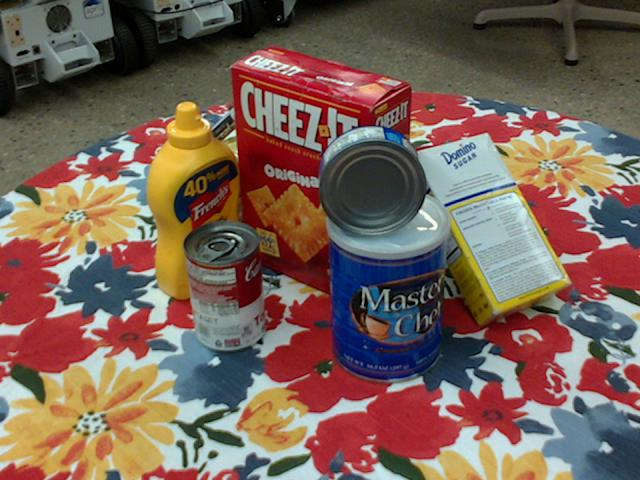cracker_box: (232, 47, 413, 307)
gelatin_box: (253, 135, 335, 206)
large_marker: (195, 92, 262, 153)
master_chef_can: (325, 189, 448, 386)
mug: (392, 145, 480, 248)
mustard_bottle: (146, 103, 244, 299)
potted_meat_can: (176, 136, 267, 244)
sugar_box: (399, 134, 572, 329)
tomato_soup_can: (182, 221, 265, 352)
tuna_fish_can: (319, 126, 428, 237)
